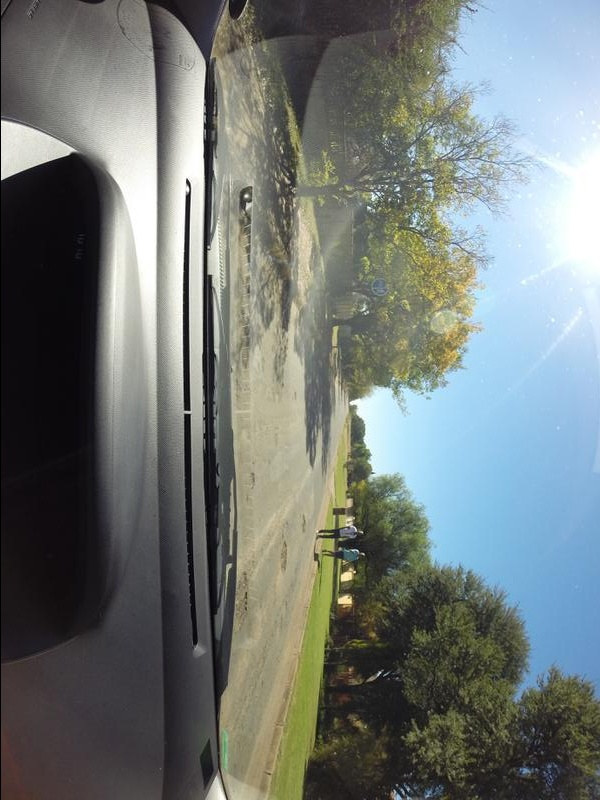pothole: (223, 306, 260, 387), (227, 222, 256, 307), (237, 572, 257, 633), (274, 541, 293, 591), (294, 511, 314, 540), (241, 472, 258, 504)
